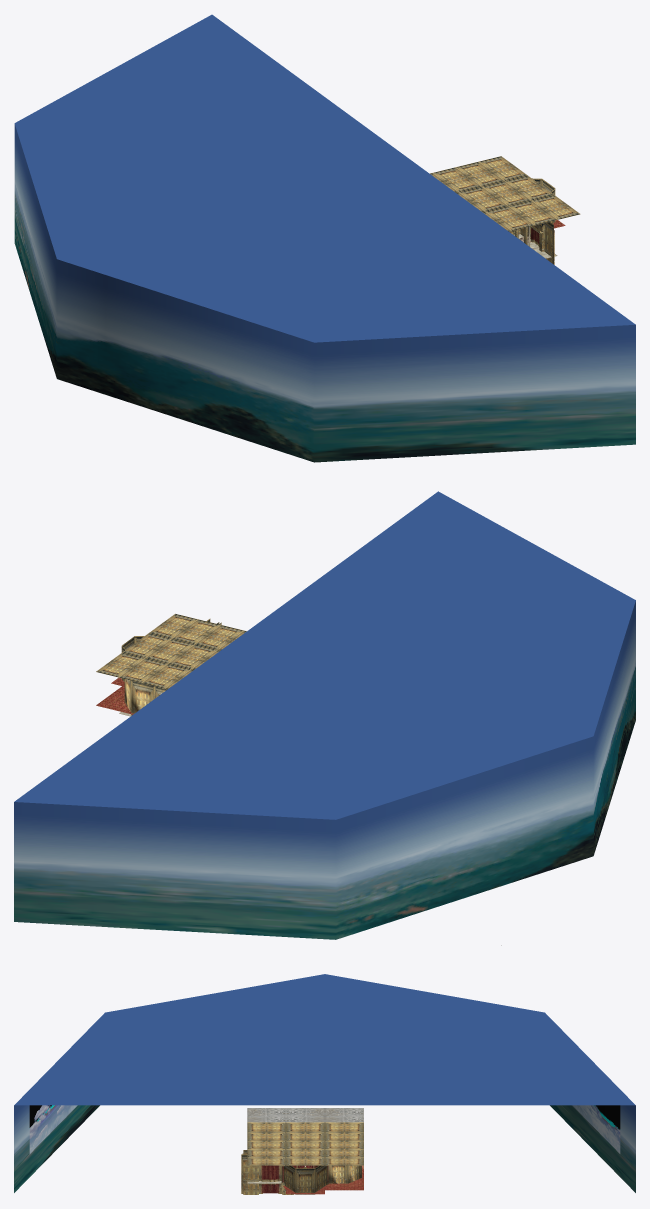
File: king_room.glb
The picture shows the model from 3 angles, top to bottom: view 1: azimuth 30°, elevation 25°; view 2: azimuth 150°, elevation 25°; view 3: azimuth 270°, elevation 25°; orthographic projection. The views are drawn at different scales.
Parts seen in each view (by area): view 1: FModMeshpart 000, FModMeshpart 004; view 2: FModMeshpart 000, FModMeshpart 004; view 3: FModMeshpart 000, FModMeshpart 004, FModMeshpart 001, FModMeshpart 002.
Boxes of the visible parts, left/top/right/bottom form: FModMeshpart 000: left=14, top=14, right=635, bottom=462; FModMeshpart 004: left=430, top=156, right=580, bottom=260; FModMeshpart 000: left=14, top=491, right=635, bottom=945; FModMeshpart 004: left=96, top=613, right=246, bottom=715; FModMeshpart 000: left=14, top=974, right=635, bottom=1192; FModMeshpart 004: left=241, top=1108, right=363, bottom=1194; FModMeshpart 001: left=29, top=1105, right=620, bottom=1153; FModMeshpart 002: left=241, top=1181, right=293, bottom=1194.
Bounding box in the file's own units: 105 × 34.52 × 160.
Materials: 9 (9 with a texture image).
